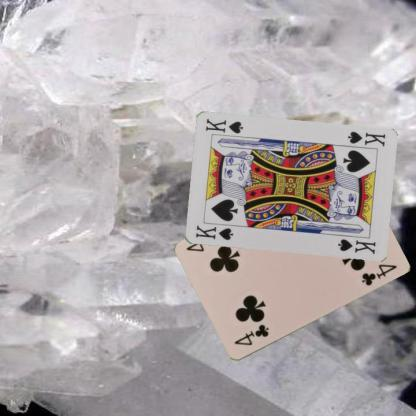4c: (231, 322, 271, 347)
Ks: (192, 223, 234, 242), (344, 129, 386, 148)
